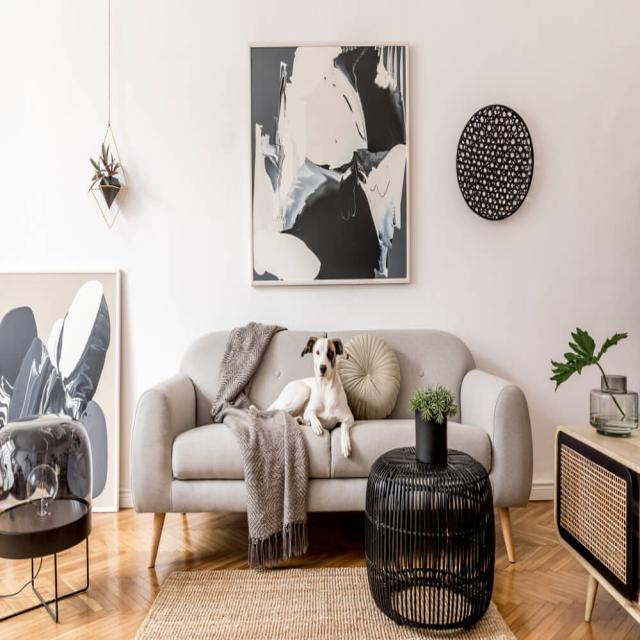modern sofa: (126, 312, 536, 574)
